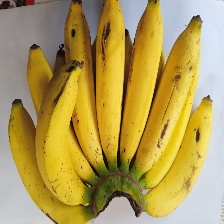banana: (30, 32, 187, 204)
